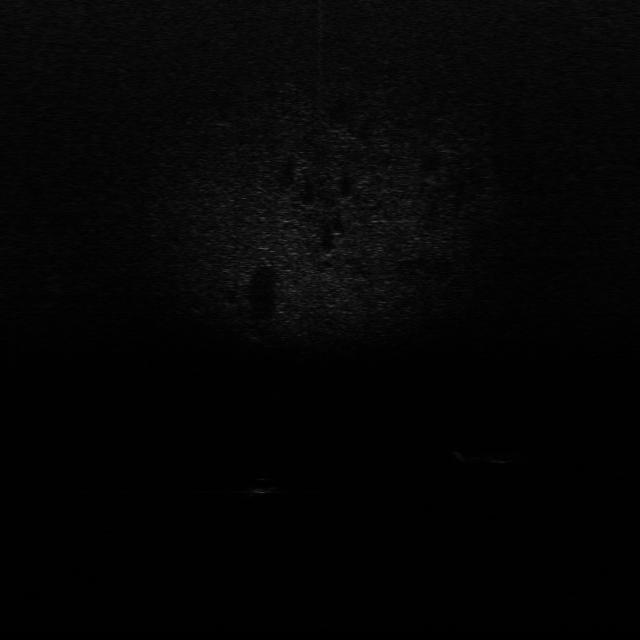ball: (244, 472, 278, 498)
human body: (450, 448, 534, 467)
